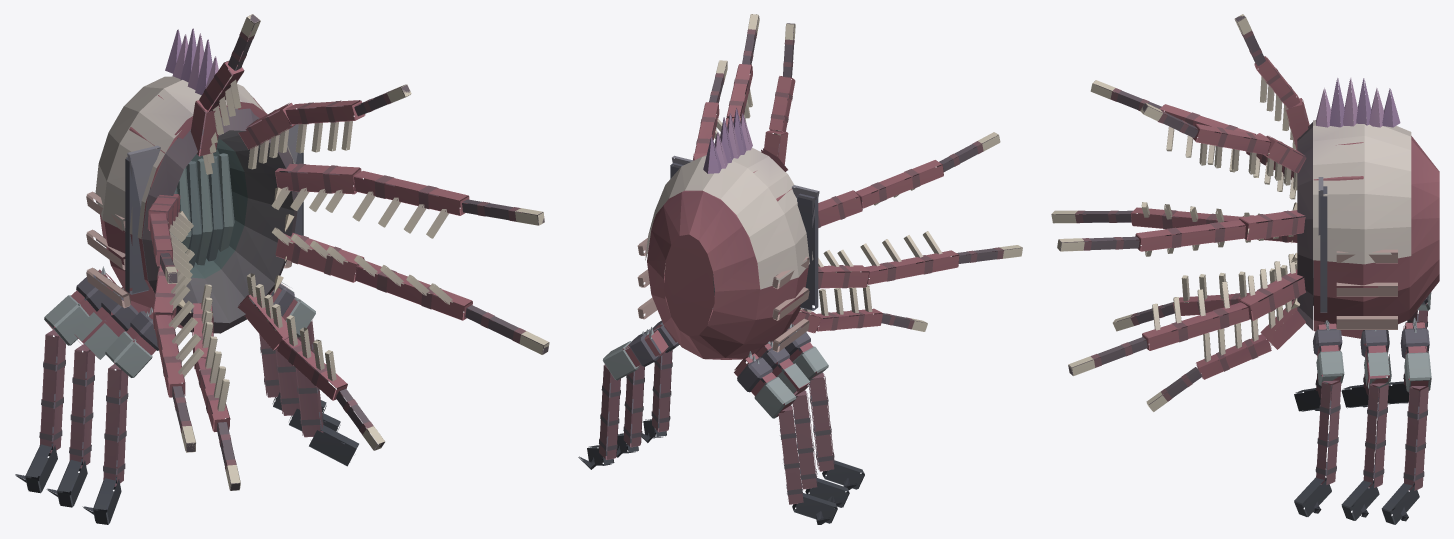
File: AdaptedVisceraPunk.glb
3 views of the same model, side by side, from view 1: azimuth 30°, elevation 25°; view 2: azimuth 150°, elevation 25°; view 3: azimuth 270°, elevation 25° (orthographic). The views are drawn at different scales.
Parts seen in each view (by area): view 1: Body, LegR, ArmR, ArmL, LegL; view 2: Body, LegR, LegL, ArmR, ArmL; view 3: Body, LegL, ArmL, LegR, ArmR.
Part boxes in pixels (x1,y1,x2,y2): Body: [46, 14, 549, 507]; LegR: [15, 266, 116, 493]; ArmR: [82, 307, 158, 524]; ArmL: [269, 284, 358, 466]; LegL: [259, 334, 326, 415]; Body: [616, 14, 1022, 508]; LegR: [734, 351, 837, 524]; LegL: [578, 327, 668, 469]; ArmR: [779, 323, 864, 490]; ArmL: [641, 344, 679, 442]; Body: [1051, 14, 1439, 520]; LegL: [1381, 317, 1431, 524]; ArmL: [1294, 320, 1344, 516]; LegR: [1387, 292, 1431, 404]; ArmR: [1294, 373, 1331, 411].
Bounding box in the file's own units: 8.02 × 10.39 × 8.25.
